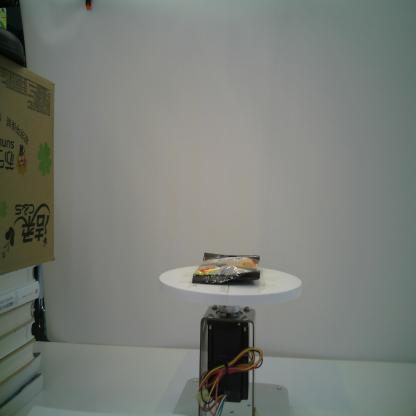Instant Drink: (192, 251, 260, 284)
